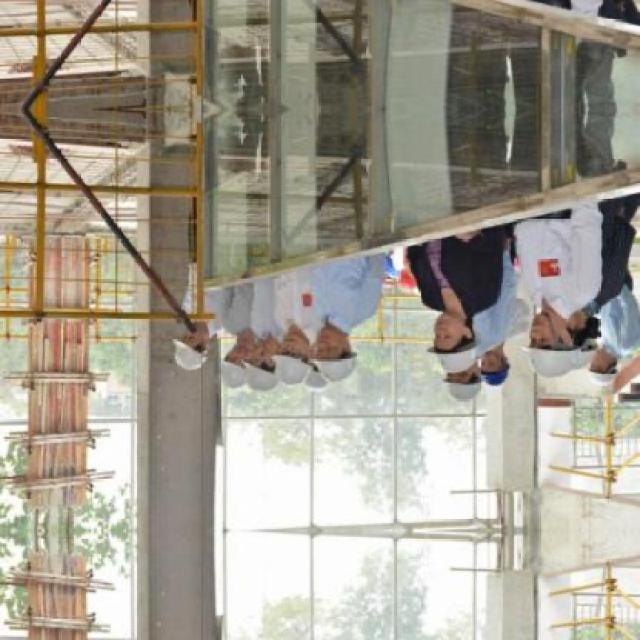con casco: (509, 274, 578, 398), (417, 301, 493, 368), (308, 314, 375, 386), (278, 321, 330, 382), (174, 330, 226, 370), (212, 349, 258, 394), (243, 346, 287, 392)
